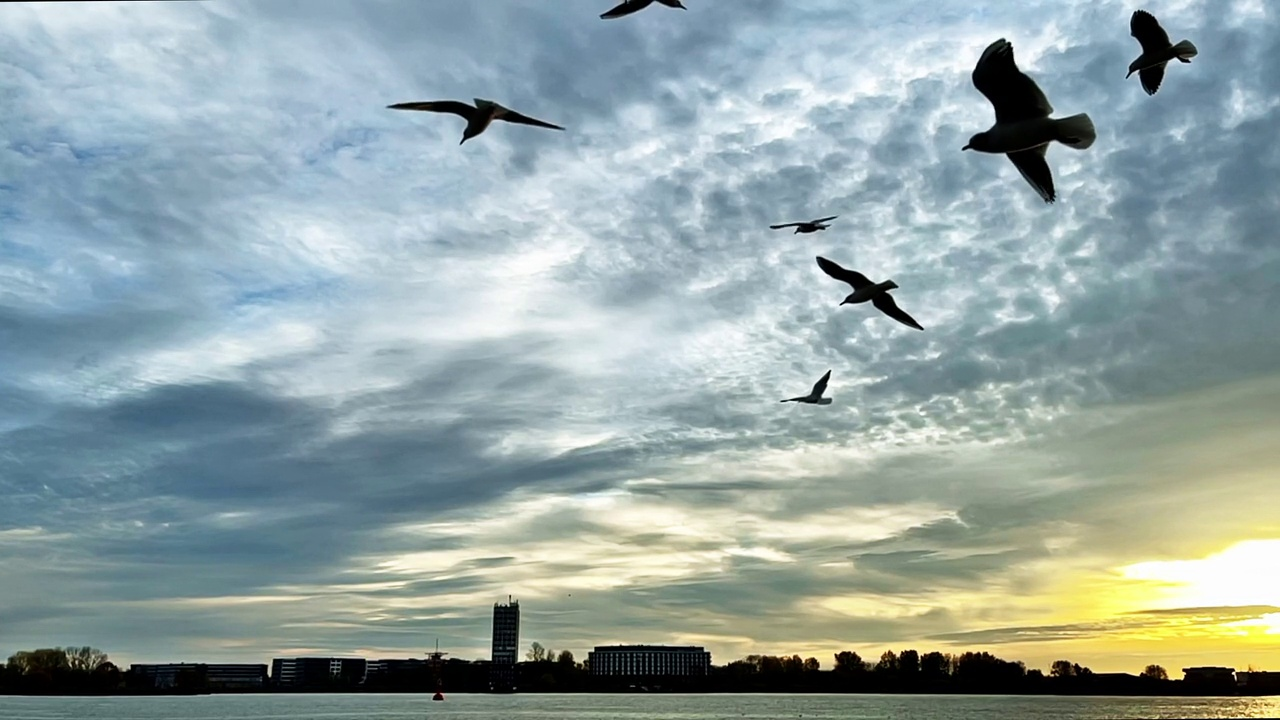bird: (962, 36, 1094, 204), (386, 97, 566, 145), (815, 254, 925, 330), (1124, 9, 1196, 96), (779, 368, 834, 405), (600, 1, 689, 21), (766, 215, 838, 236)
